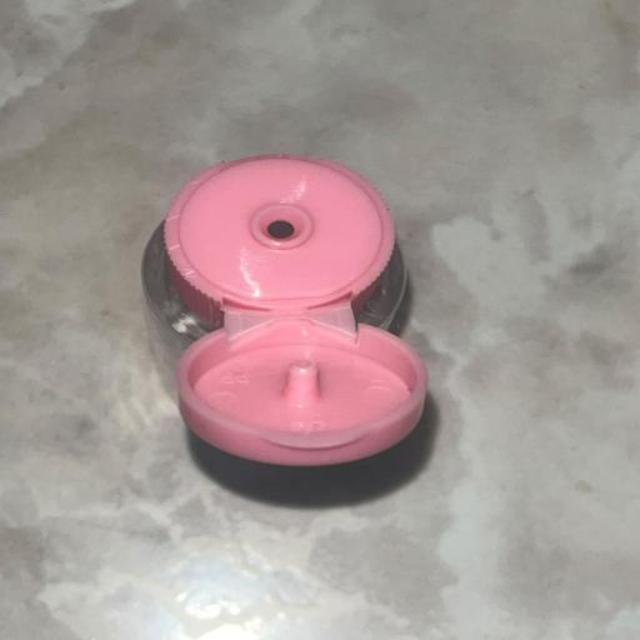PET: (83, 78, 541, 544)
